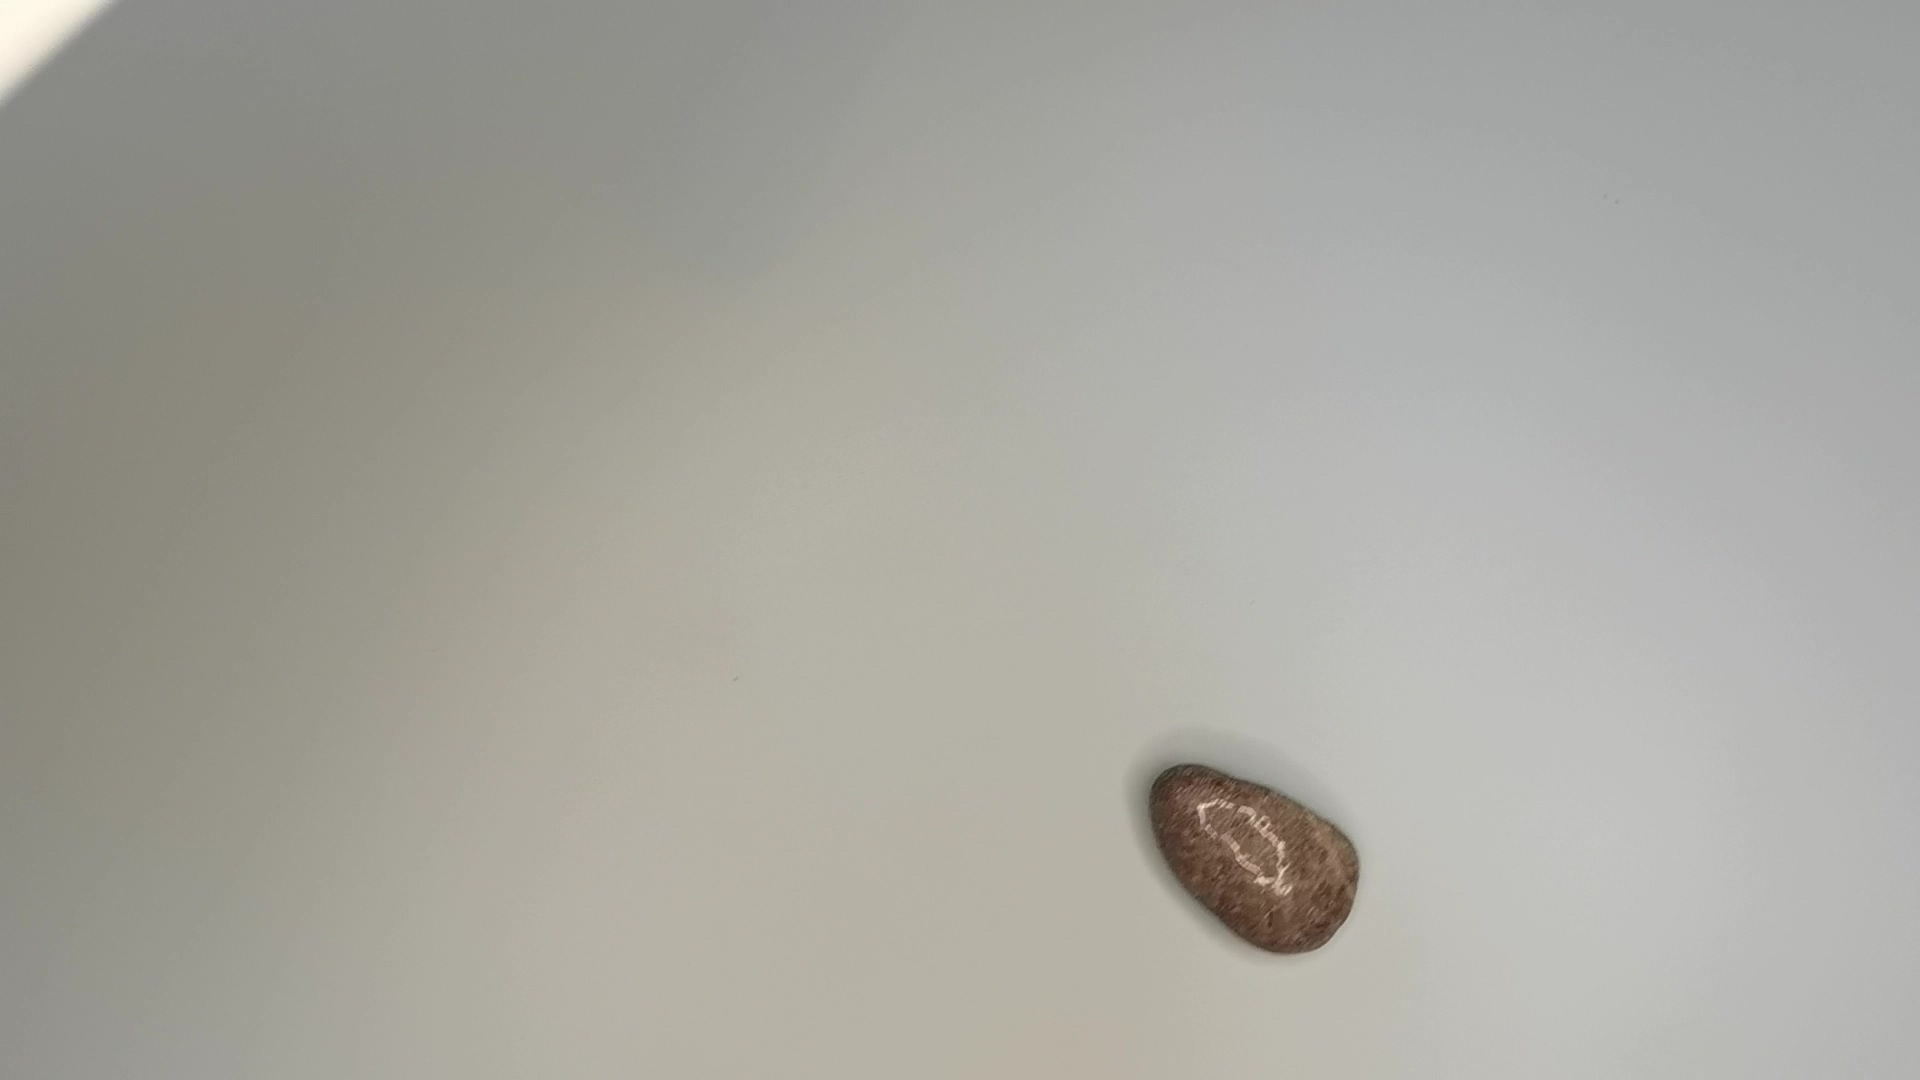ceramic: (1143, 758, 1367, 961)
